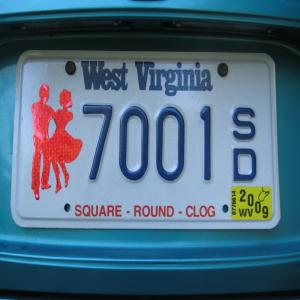Vehicle-registration-plate: (11, 51, 282, 232)
